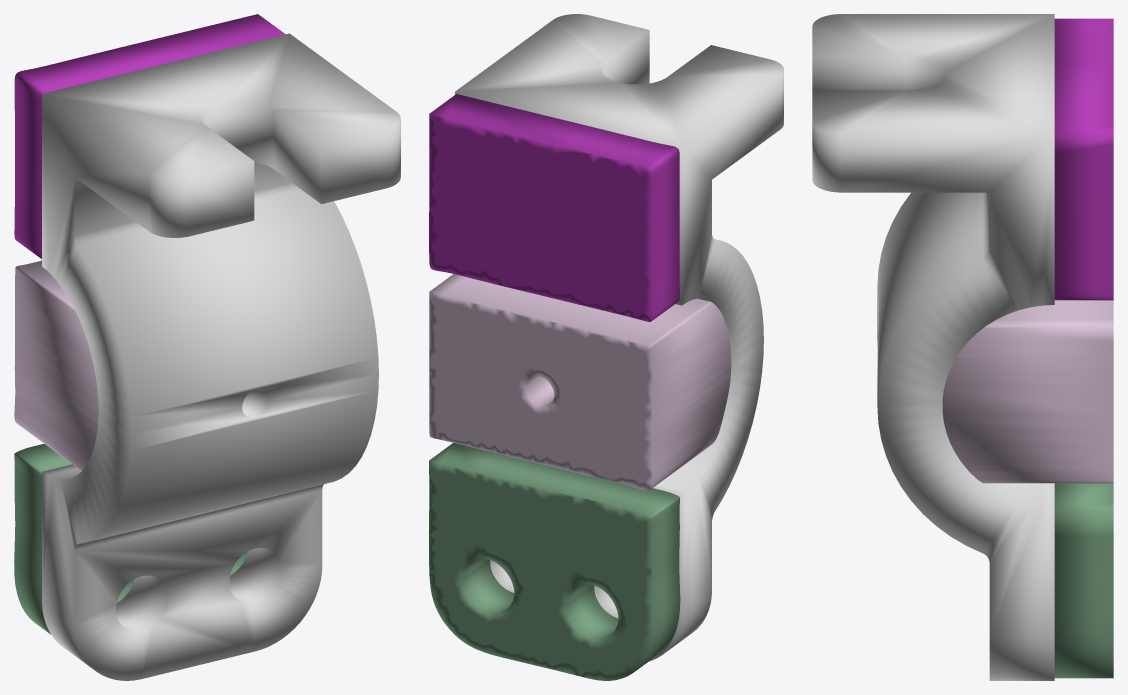
The model's file is overhangSupport.glb.
3 renders of one model, left to right at view 1: azimuth 30°, elevation 25°; view 2: azimuth 150°, elevation 25°; view 3: azimuth 270°, elevation 25°, orthographic. The views are drawn at different scales.
Parts seen in each view (by area): view 1: frameGuide.stl, world; view 2: world, frameGuide.stl; view 3: frameGuide.stl, world.
Boxes of the visible parts, bbox=[...] form: frameGuide.stl: bbox=[42, 33, 400, 680]; world: bbox=[14, 14, 285, 634]; world: bbox=[429, 94, 731, 680]; frameGuide.stl: bbox=[455, 14, 783, 661]; frameGuide.stl: bbox=[812, 14, 1054, 680]; world: bbox=[942, 18, 1113, 678].
Bounding box in the file's own units: 48 × 107 × 51.
